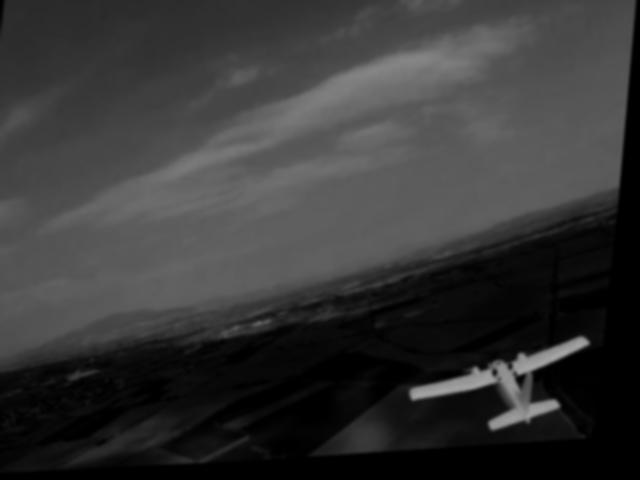hedef: (410, 329, 604, 448)
